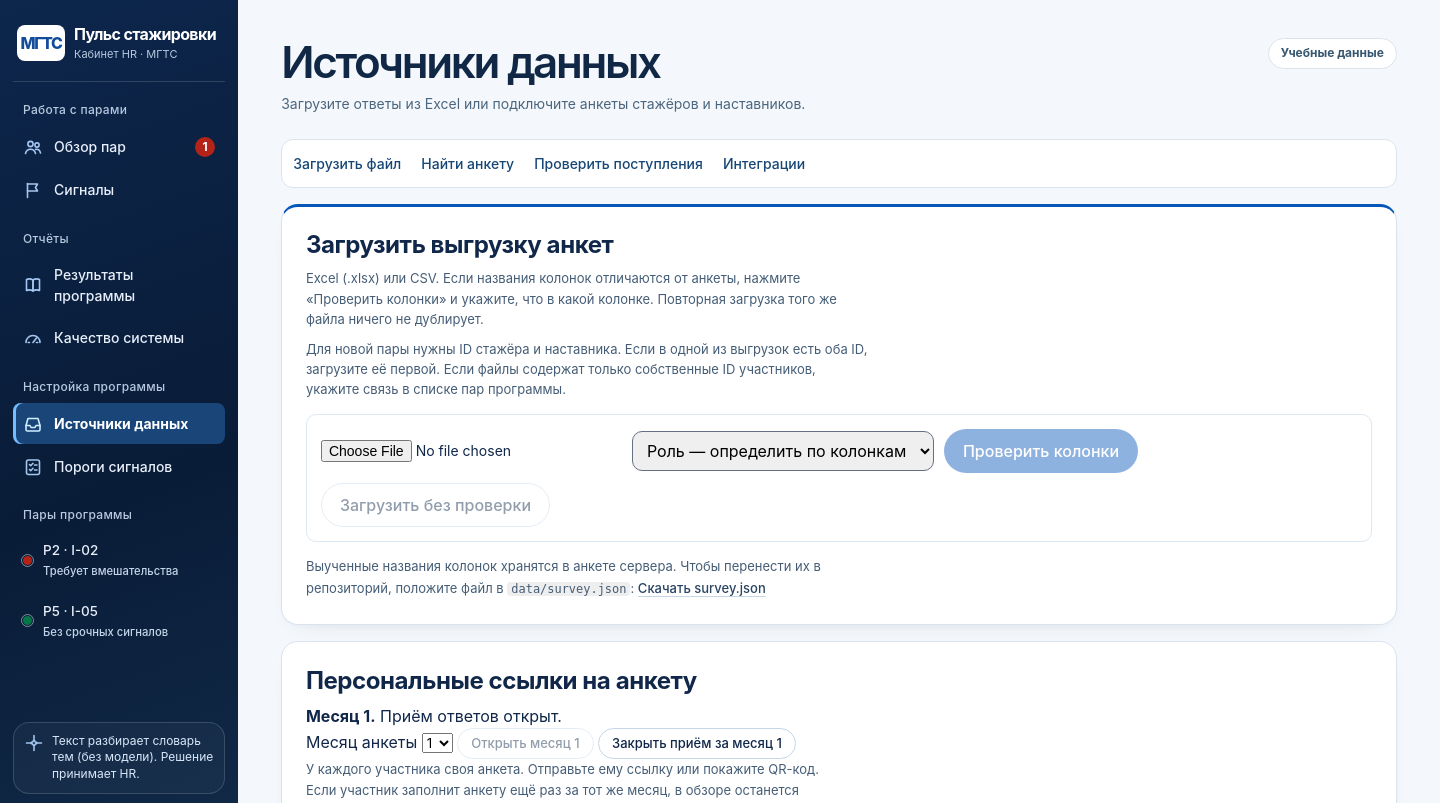
Test case: HR закрывает приём и открывает следующий месяц для тех же ссылок
This screenshot has width=1440, height=803.
Click the button "Закрыть приём за месяц 1" at (697,743), box [598,728,796,759]
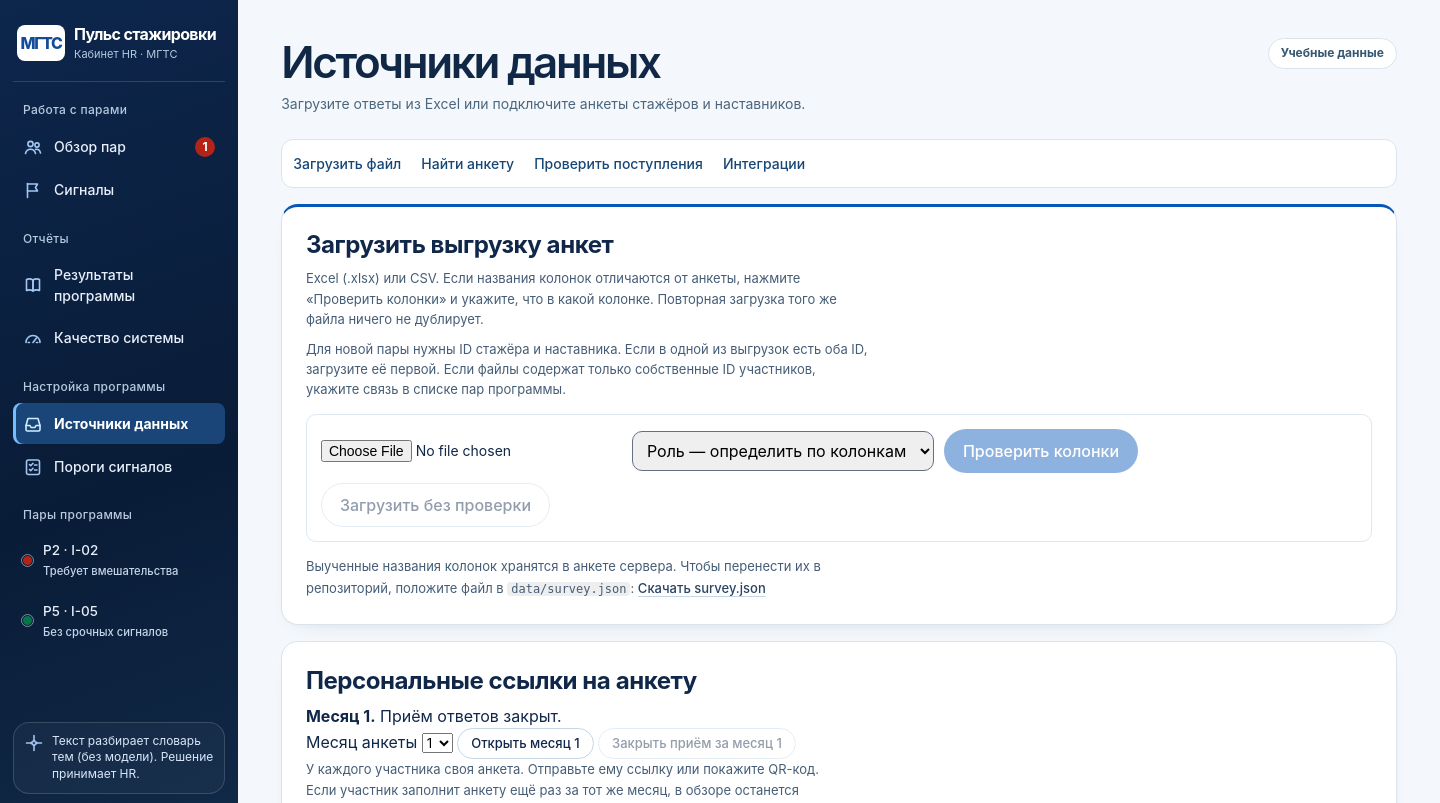
Check: the text "Приём ответов закрыт." is shown, box [380,706,562,726]
Select "2" in the dropdown labelled "Месяц анкеты" at (437,743), box [422,733,453,753]
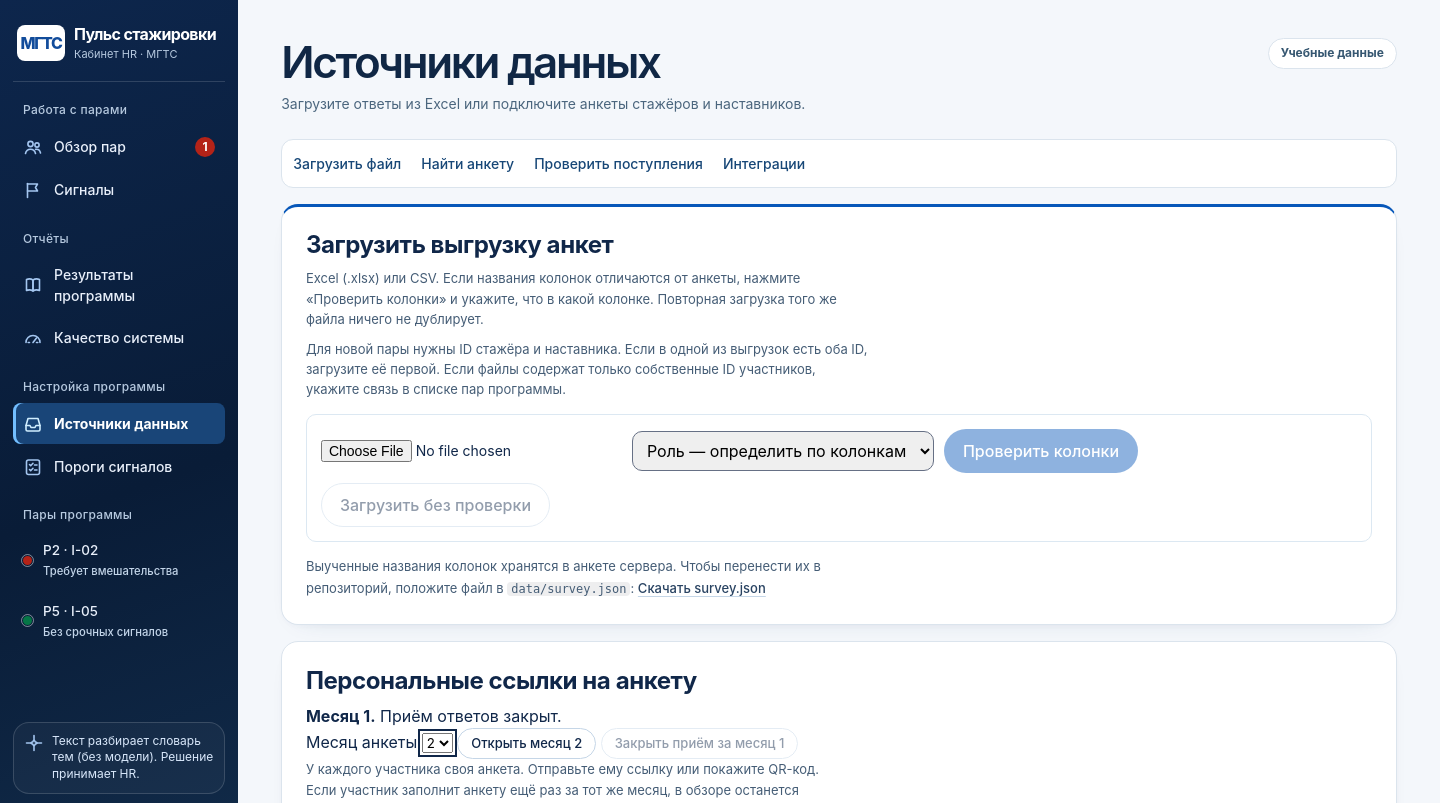
Click the button "Открыть месяц 2" at (527,743), box [457,728,596,759]
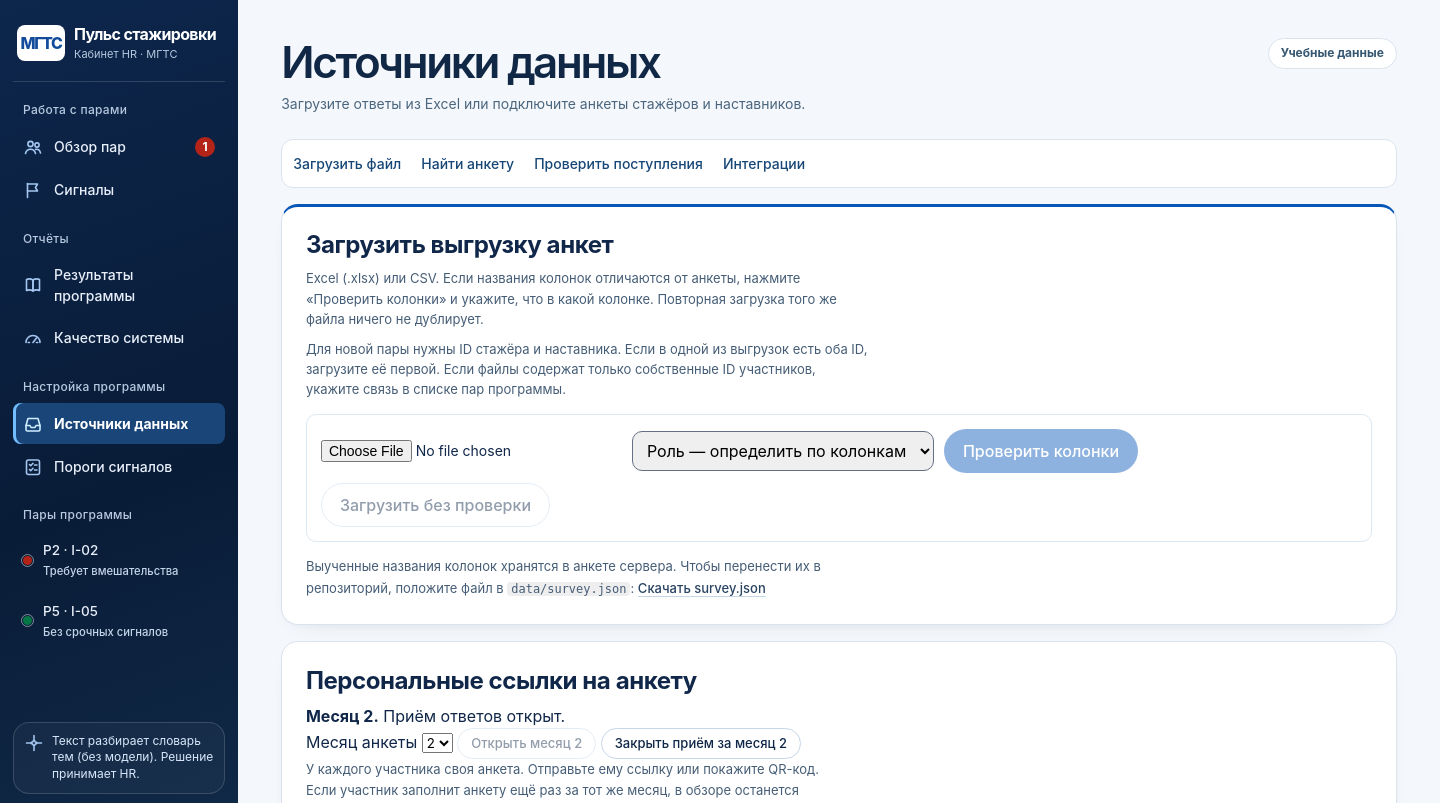
Check: the button "Закрыть приём за месяц 2" is enabled, box [601,728,801,759]
